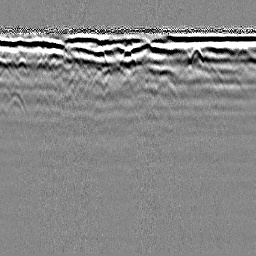cavity: (116, 45, 137, 65)
